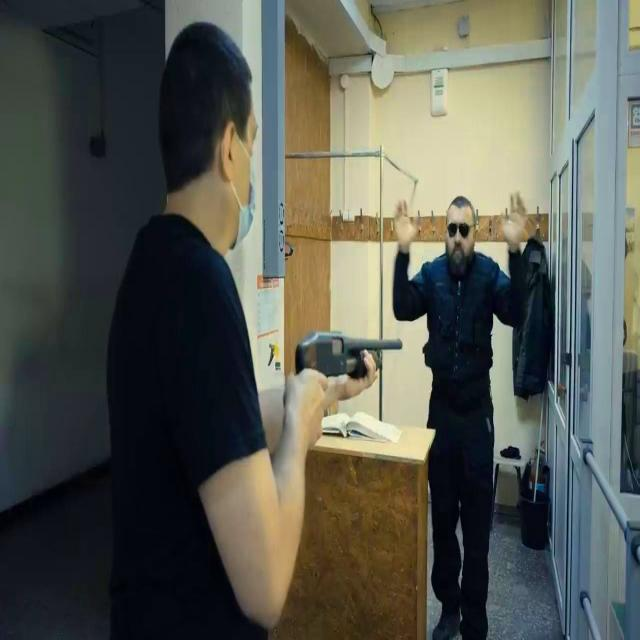gun: (107, 19, 405, 640), (391, 188, 529, 640), (293, 329, 405, 417)
